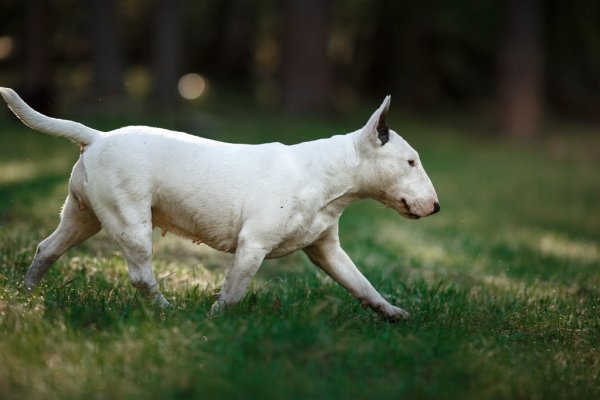bull_terrier: (0, 86, 441, 323)
